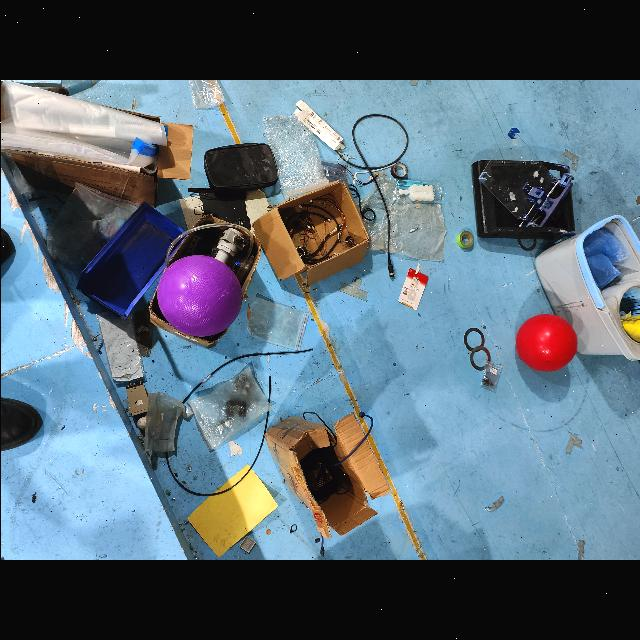P: (158, 255, 246, 338)
R: (514, 314, 580, 372)
